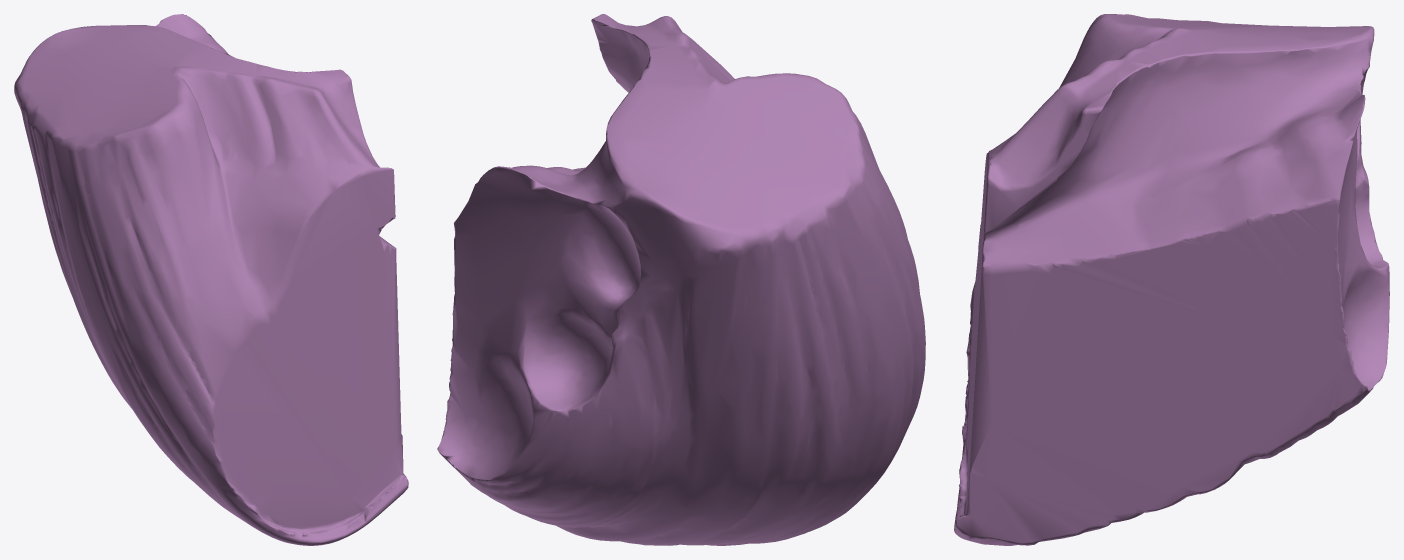
3 renders of one model, left to right at view 1: azimuth 30°, elevation 25°; view 2: azimuth 150°, elevation 25°; view 3: azimuth 270°, elevation 25°, orthographic. The views are drawn at different scales.
Parts seen in each view (by area): view 1: 右侧脑桥; view 2: 右侧脑桥; view 3: 右侧脑桥.
Part boxes in pixels (bbox=[...]): 右侧脑桥: bbox=[14, 14, 408, 545]; 右侧脑桥: bbox=[437, 14, 925, 545]; 右侧脑桥: bbox=[954, 14, 1389, 545].
Bounding box in the file's own units: 0.0303 × 0.0492 × 0.0409.
